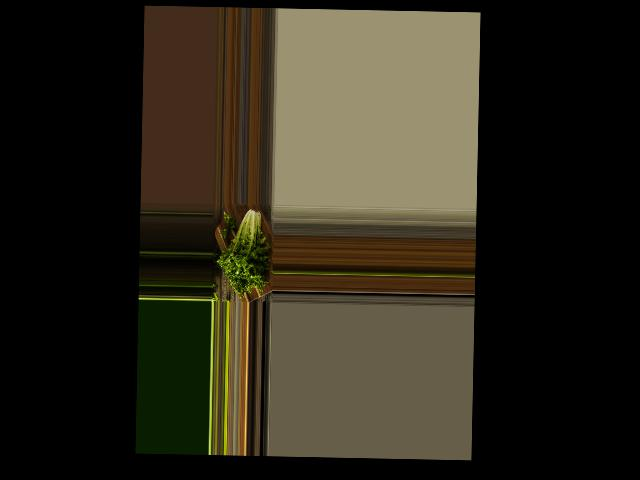lettuce: (217, 204, 271, 294)
